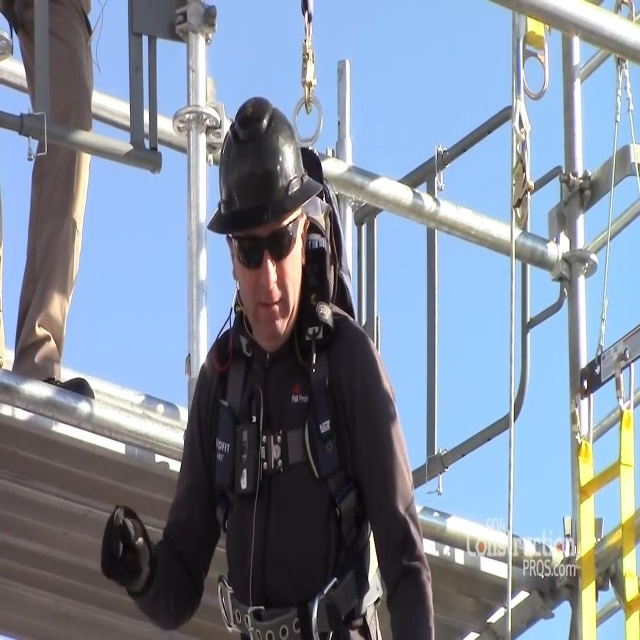Arnes_seguridad: (209, 106, 388, 639)
